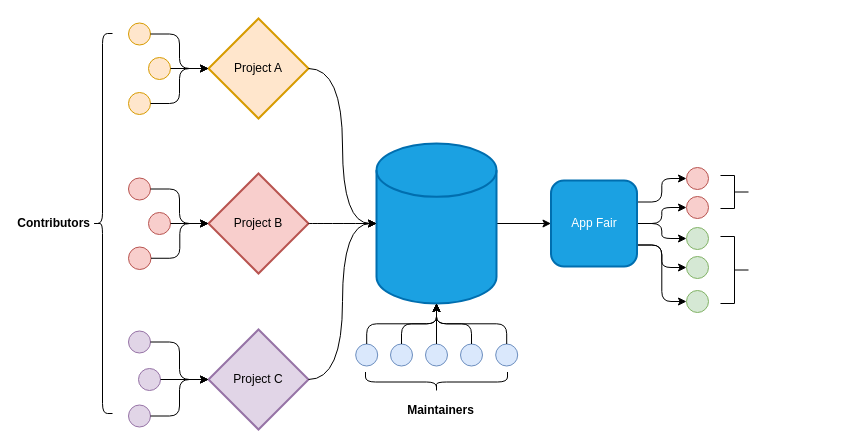
This 852x447 diagram has some shape labels left out. Each missing label, with the centre of its shape:
Android Users: [734,270]
iOS Users (EU): [734,191]
The App Fair Project: [436,223]
